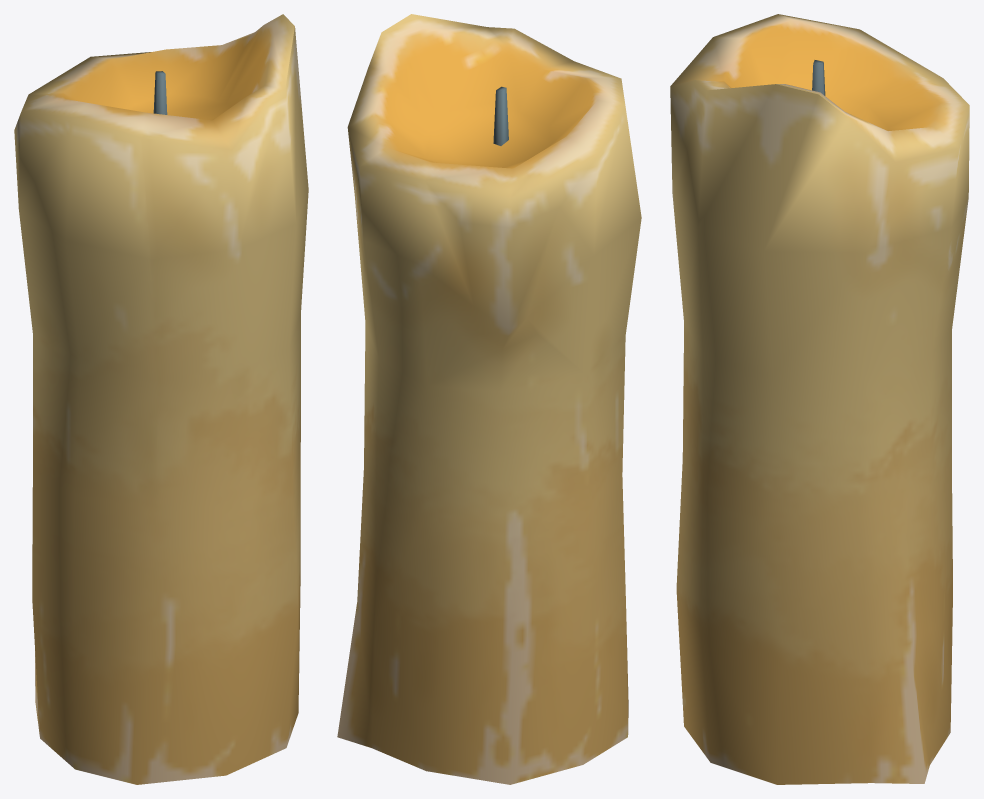
Rendered from Candle_2.fbx.
3 renders of one model, left to right at view 1: azimuth 30°, elevation 25°; view 2: azimuth 150°, elevation 25°; view 3: azimuth 270°, elevation 25°, orthographic. The views are drawn at different scales.
Visible parts, largest first — view 1: Candle_2; view 2: Candle_2; view 3: Candle_2.
Part boxes in pixels (x1,y1,x2,y2): Candle_2: (14,14,308,784); Candle_2: (337,14,641,784); Candle_2: (670,14,969,784).
Size of the model in its own units: 9.44 by 25.11 by 9.75.
